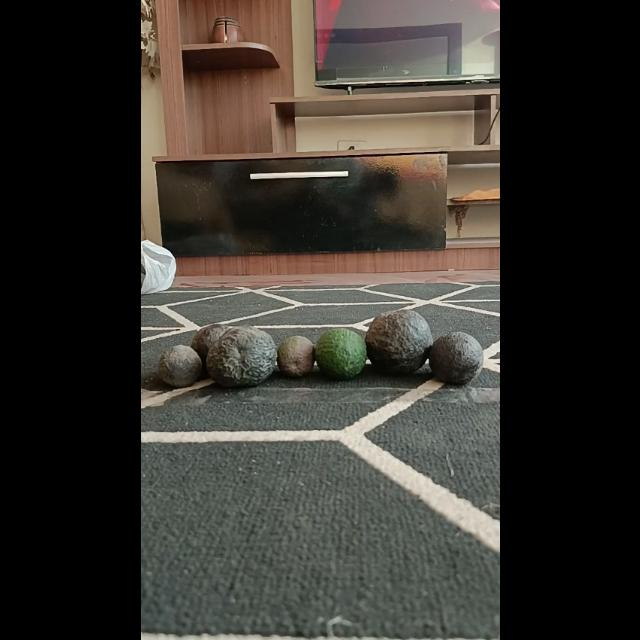Primera: (363, 308, 432, 374), (205, 326, 277, 388)
Segunda: (428, 331, 482, 385), (314, 328, 366, 378)
Tercera: (157, 344, 201, 388), (276, 335, 314, 377)
